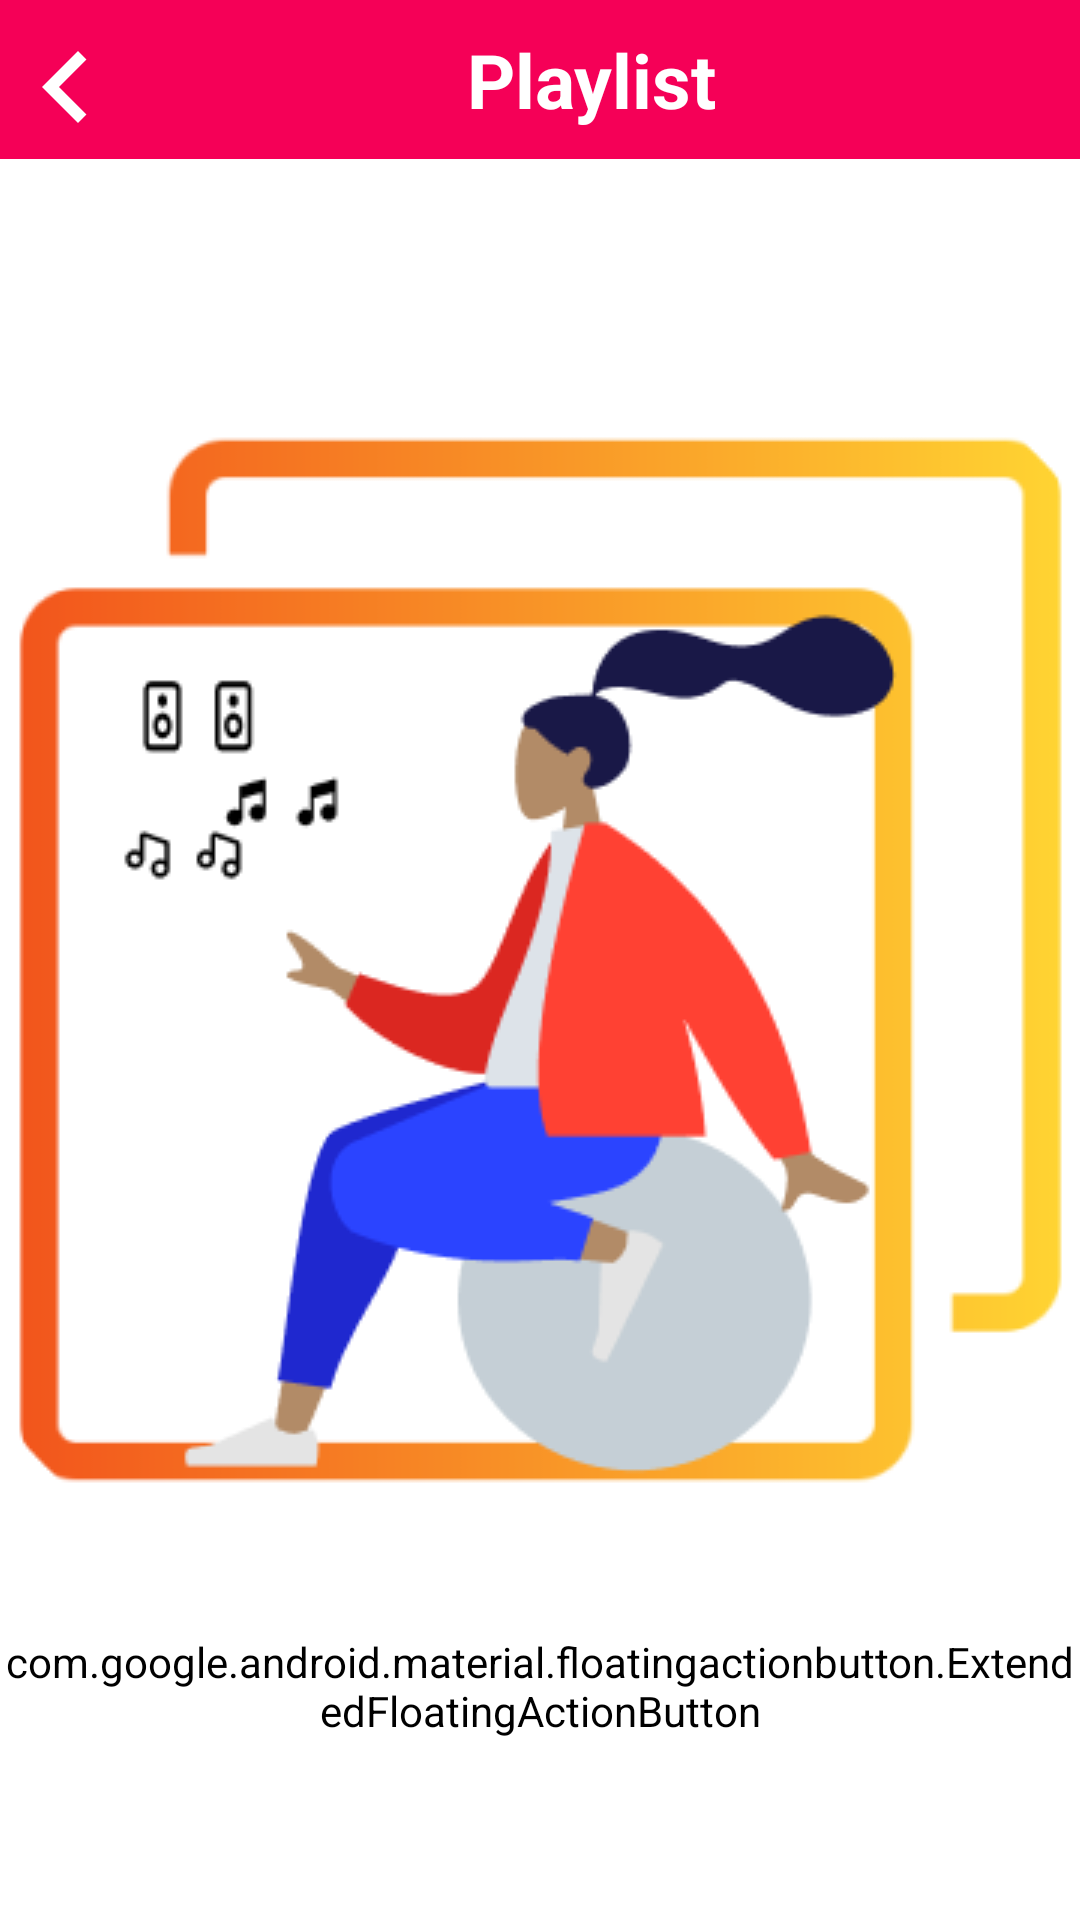

Where to tap for icons on this 1080 x 1920 app screen, as point (x, y):
Back: point (64, 87)
